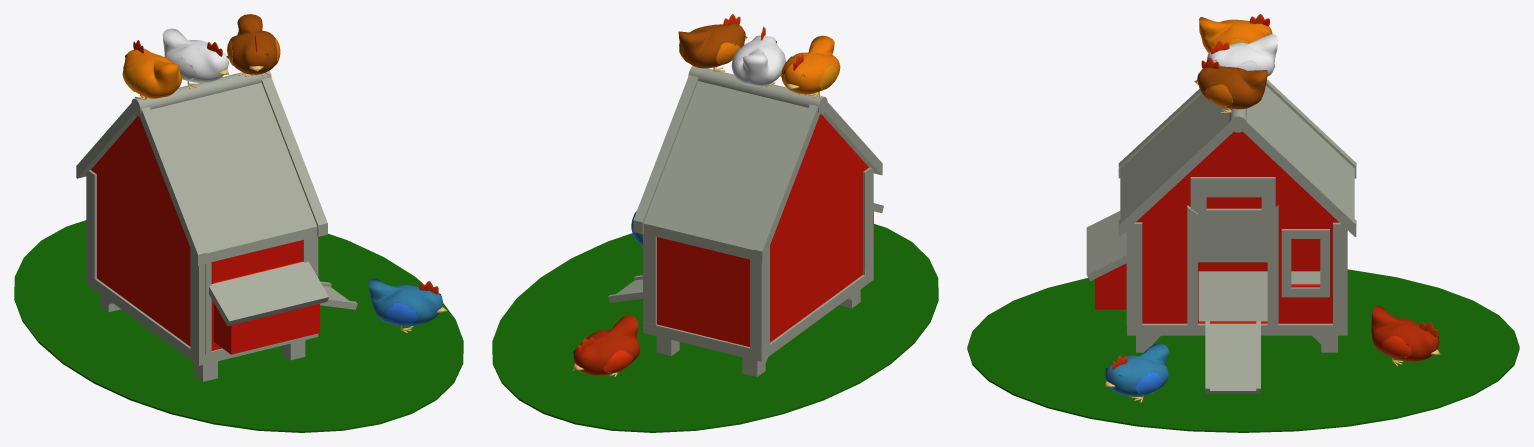
File: galinheiro.gltf
The picture shows the model from 3 angles, left to right: view 1: azimuth 30°, elevation 25°; view 2: azimuth 150°, elevation 25°; view 3: azimuth 270°, elevation 25°; orthographic projection. The views are drawn at different scales.
Visible parts, largest first — view 1: chao, telhado, Parede de tras, parede da caixinha, Parte de baixo, galinha_azul, galinha_branca, galinha_laranja, galinha_marrom, rampinha; view 2: chao, telhado, Parede de tras, Parede vazia, Parte de baixo, galinha_vermelha, galinha_marrom, galinha_laranja, galinha_branca, rampinha, Parede frente; view 3: chao, Parede frente, telhado, Parte de baixo, rampinha, parede da caixinha, galinha_vermelha, galinha_marrom, galinha_azul, galinha_branca, galinha_laranja, Parede de tras.
Boxes of the visible parts, bbox=[...] form: chao: bbox=[14, 220, 463, 432]; telhado: bbox=[76, 70, 327, 266]; Parede de tras: bbox=[86, 116, 205, 355]; parede da caixinha: bbox=[205, 238, 328, 354]; Parte de baixo: bbox=[86, 273, 318, 381]; galinha_azul: bbox=[368, 278, 447, 333]; galinha_branca: bbox=[162, 28, 229, 89]; galinha_laranja: bbox=[122, 40, 181, 99]; galinha_marrom: bbox=[227, 14, 280, 76]; rampinha: bbox=[320, 281, 357, 309]; chao: bbox=[492, 224, 938, 432]; telhado: bbox=[633, 66, 882, 263]; Parede de tras: bbox=[758, 114, 873, 351]; Parede vazia: bbox=[647, 234, 757, 349]; Parte de baixo: bbox=[643, 269, 873, 376]; galinha_vermelha: bbox=[572, 315, 639, 376]; galinha_marrom: bbox=[678, 14, 747, 71]; galinha_laranja: bbox=[780, 35, 840, 98]; galinha_branca: bbox=[731, 26, 785, 86]; rampinha: bbox=[608, 275, 642, 302]; Parede frente: bbox=[643, 233, 647, 322]; chao: bbox=[967, 269, 1519, 432]; Parede frente: bbox=[1126, 131, 1347, 331]; telhado: bbox=[1118, 79, 1356, 236]; Parte de baixo: bbox=[1127, 271, 1347, 352]; rampinha: bbox=[1205, 321, 1260, 393]; parede da caixinha: bbox=[1086, 211, 1126, 309]; galinha_vermelha: bbox=[1371, 305, 1440, 366]; galinha_marrom: bbox=[1194, 57, 1267, 113]; galinha_azul: bbox=[1104, 343, 1168, 402]; galinha_branca: bbox=[1206, 34, 1277, 76]; galinha_laranja: bbox=[1199, 14, 1278, 52]; Parede de tras: bbox=[1198, 239, 1320, 271].
Bounding box in the file's own units: 4.53 × 3.66 × 6.28.
